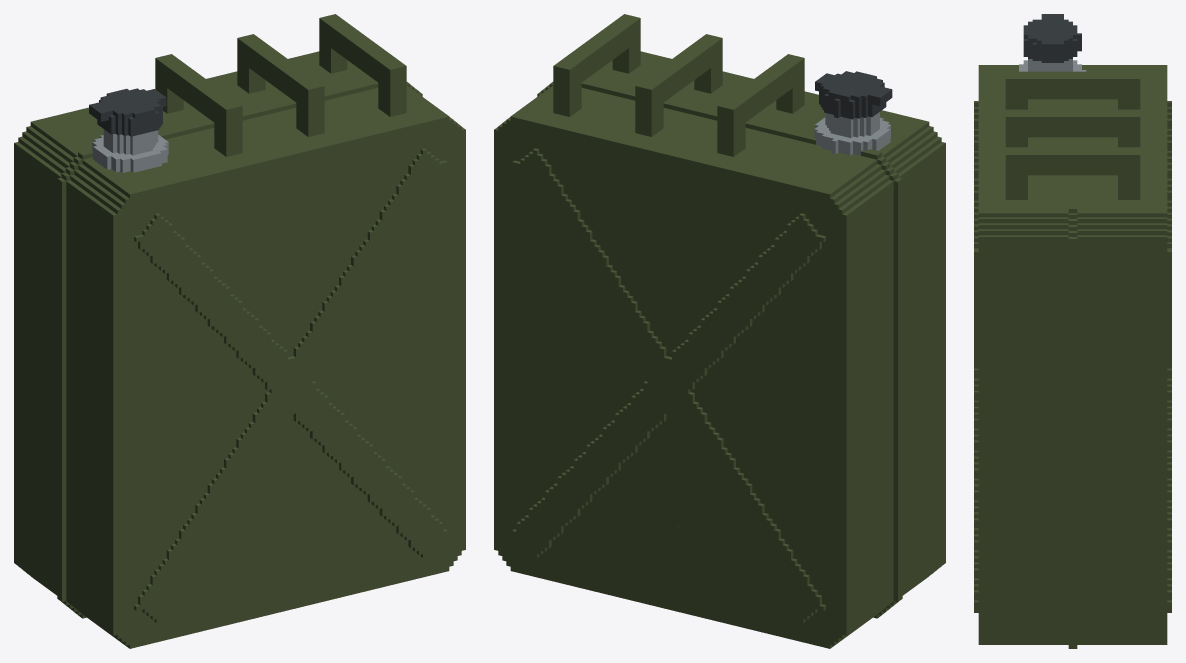
Rendered from jerry_can.glb.
3 renders of one model, left to right at view 1: azimuth 30°, elevation 25°; view 2: azimuth 150°, elevation 25°; view 3: azimuth 270°, elevation 25°, orthographic. The views are drawn at different scales.
Parts seen in each view (by area): view 1: jerry_can:compound; view 2: jerry_can:compound; view 3: jerry_can:compound.
Boxes of the visible parts, x1,y1,x2,y2 form: jerry_can:compound: (14,14,465,648); jerry_can:compound: (494,14,945,648); jerry_can:compound: (974,14,1171,648).
Bounding box in the file's own units: 0.352 × 0.48 × 0.176.
